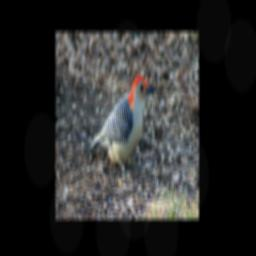Woodpecker: (88, 75, 157, 181)
